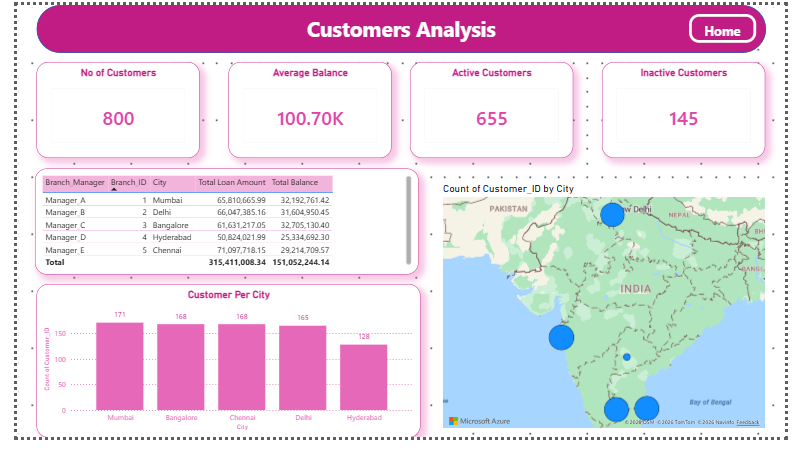

The dashboard page shown, as its layout file describes it:
{"tool":"powerbi","page":{"name":"customers analysis","canvas":[1280,720],"ordinal":1},"visuals":[{"type":"cardVisual","title":"No of Customers","fields":{"Data":["Basic Measure.Total_customers"]},"box":[32,96,272,160],"z":0},{"type":"cardVisual","title":"Active Customers","fields":{"Data":["Customers Insights.Active Customers"]},"box":[656,96,272,160],"z":1000},{"type":"cardVisual","title":"Inactive Customers","fields":{"Data":["Customers Insights.Inactive Customers"]},"box":[976,96,272,160],"z":2000},{"type":"clusteredColumnChart","title":"Customer Per  City","fields":{"Category":["Customers.City"],"Y":["CountNonNull(Customers.Customer_ID)"]},"box":[32,464,640,256],"z":3000},{"type":"tableEx","fields":{"Values":["Branches.Branch_Manager","Branches.Branch_ID","Branches.City","Loan Analysis.Total Loan Amount","Balance & Account Measure.Total Balance"]},"box":[29.1,272,639.6,176.5],"z":4000},{"type":"cardVisual","title":"Average Balance","fields":{"Data":["Avg(Accounts.Balance)"]},"box":[352,96,272,160],"z":5000},{"type":"azureMap","fields":{"Category":["Branches.City"],"Size":["CountNonNull(Customers.Customer_ID)"]},"box":[706,294.7,547.3,414.5],"z":6000},{"type":"shape","box":[32,0,1216,80],"z":7000},{"type":"actionButton","box":[1120,16,112,48],"z":8000}]}

Visuals, with their boxes in screenshot pixels (x1, y1, x2, y2), scaled from the page's 1280x720 canvas onto the 796x450 screenshot:
"No of Customers" cardVisual: 20/60/189/160
"Active Customers" cardVisual: 408/60/577/160
"Inactive Customers" cardVisual: 607/60/776/160
"Customer Per  City" clusteredColumnChart: 20/290/418/449
tableEx - Branches.Branch_Manager x Branches.Branch_ID: 18/170/416/280
"Average Balance" cardVisual: 219/60/388/160
azureMap - Branches.City x CountNonNull(Customers.Customer_ID): 439/184/779/443
shape: 20/0/776/50
actionButton: 696/10/766/40
